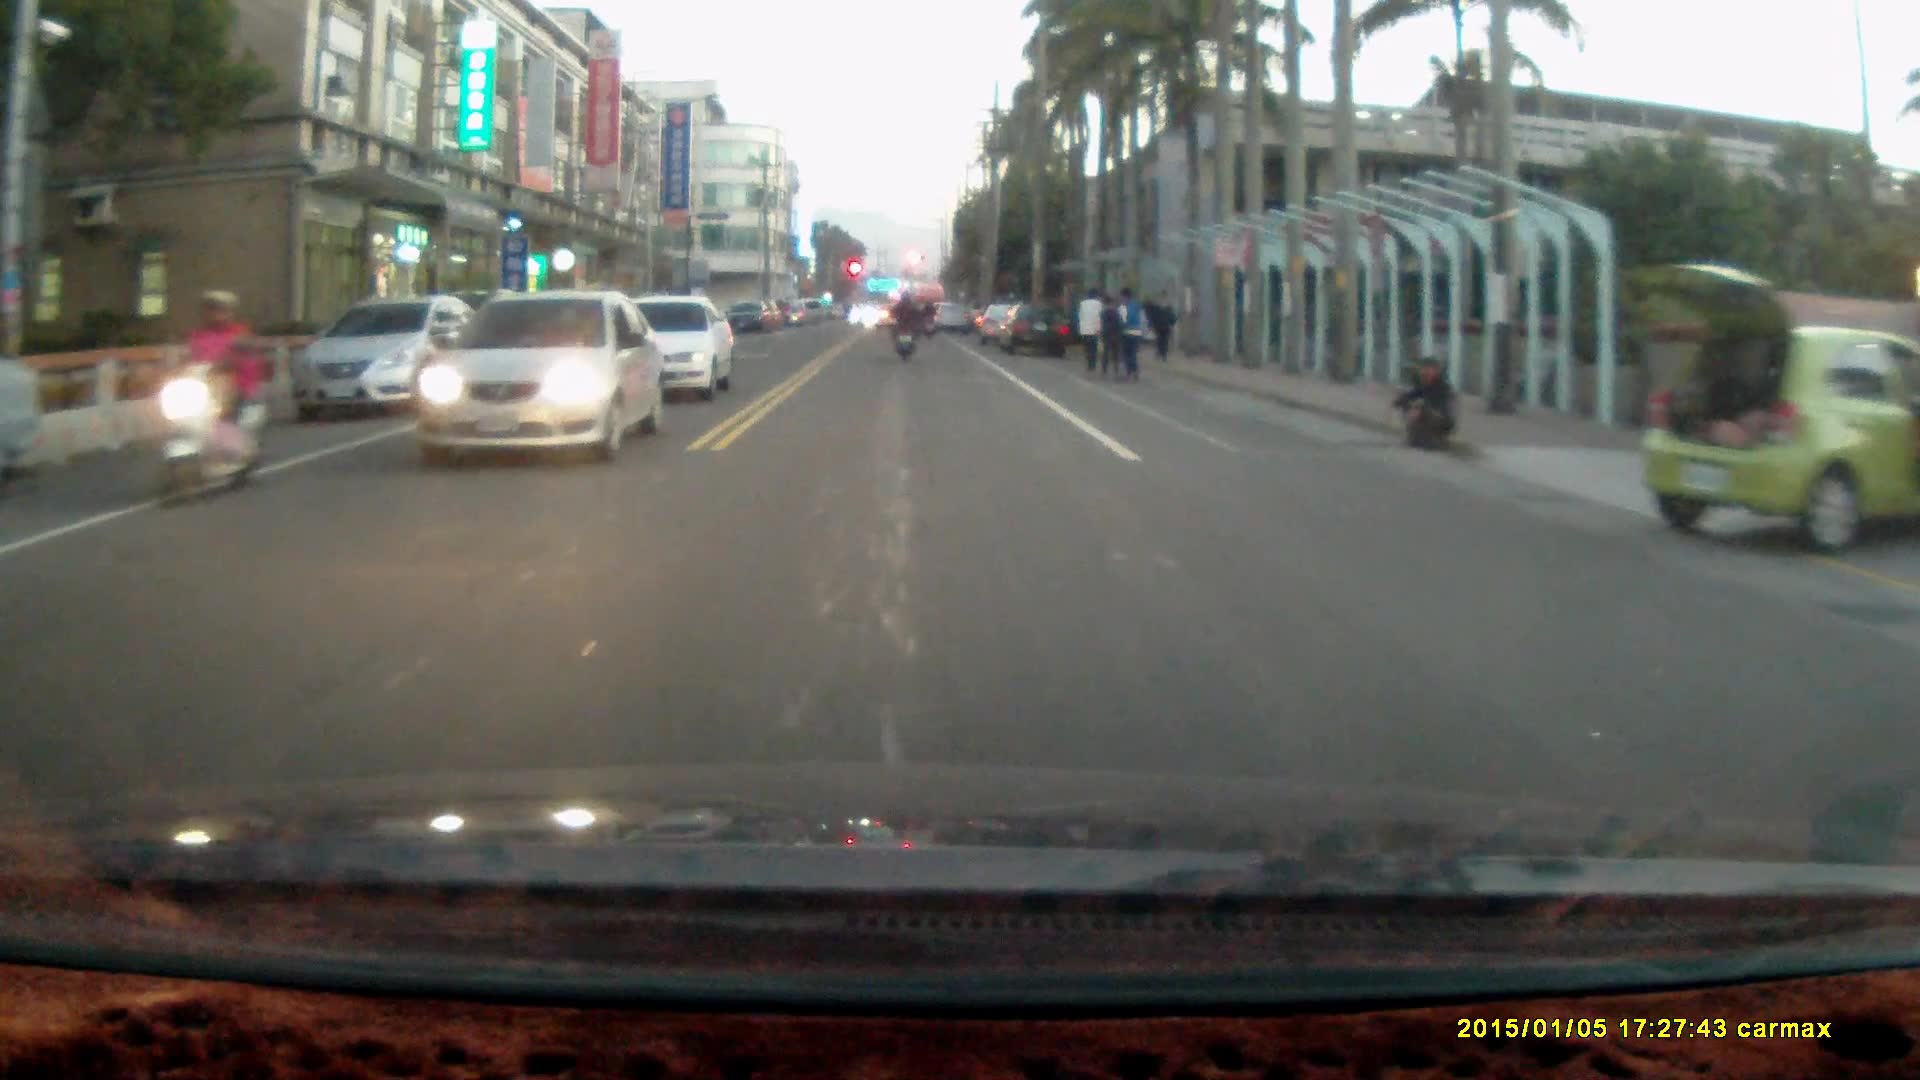pedestrian: (1392, 357, 1460, 454), (1104, 283, 1151, 382), (1076, 279, 1107, 376), (1095, 290, 1124, 378), (1148, 287, 1179, 359)
rider: (152, 283, 273, 507), (886, 285, 920, 361)
vehicle: (1638, 260, 1920, 556), (407, 284, 666, 461), (297, 295, 480, 423), (627, 294, 738, 403), (996, 302, 1074, 356)
